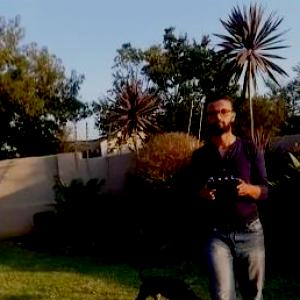follow: (189, 87, 274, 299)
null: (129, 259, 208, 299)
